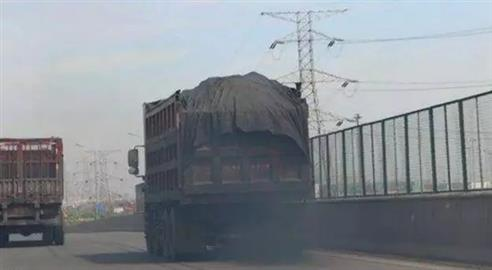smoke: (212, 182, 331, 266)
